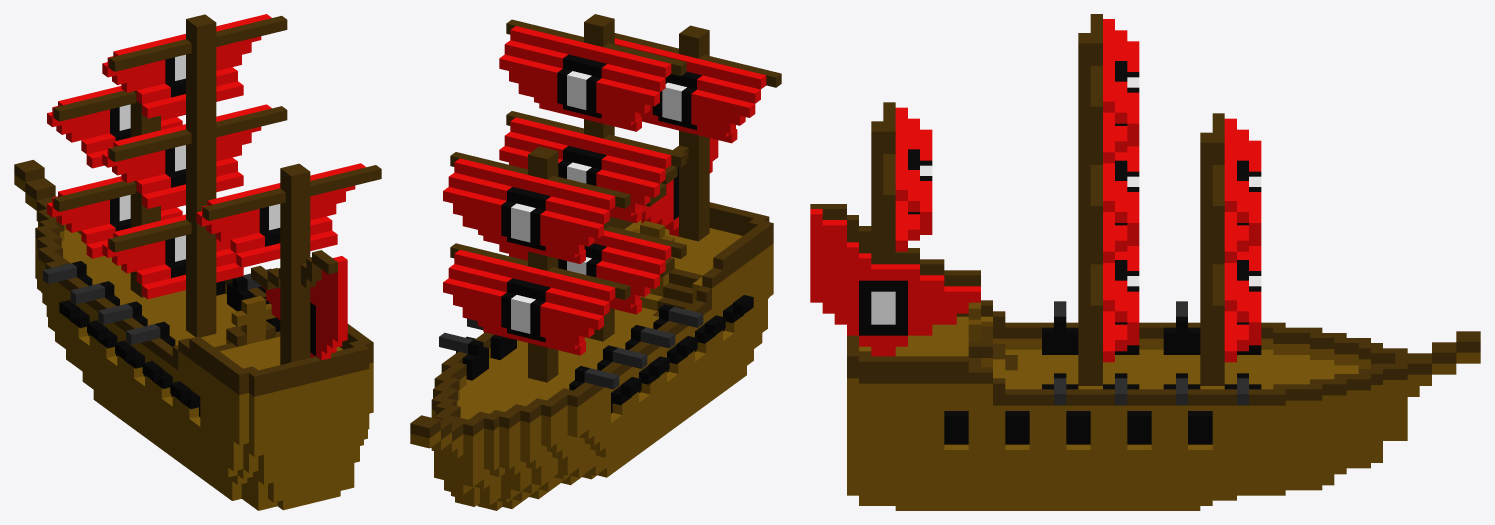
The model's file is Enemy Ship.obj.
3 renders of one model, left to right at view 1: azimuth 30°, elevation 25°; view 2: azimuth 150°, elevation 25°; view 3: azimuth 270°, elevation 25°, orthographic. The views are drawn at different scales.
Size of the model in its own units: 1.8 by 4 by 5.5.
Materials: 1 (1 with a texture image).
